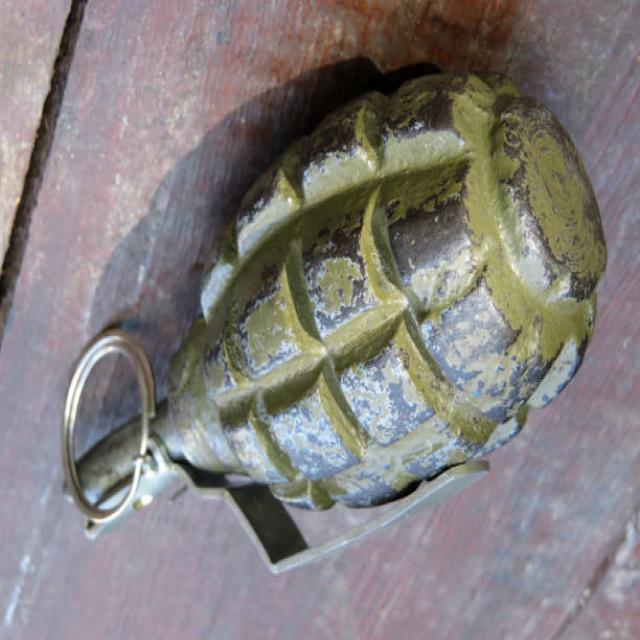grenade: (53, 50, 617, 581)
